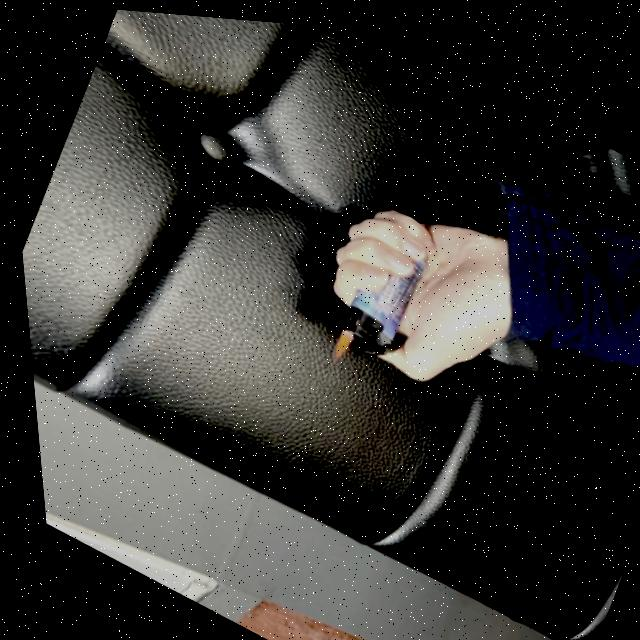Fire: (321, 319, 352, 360)
